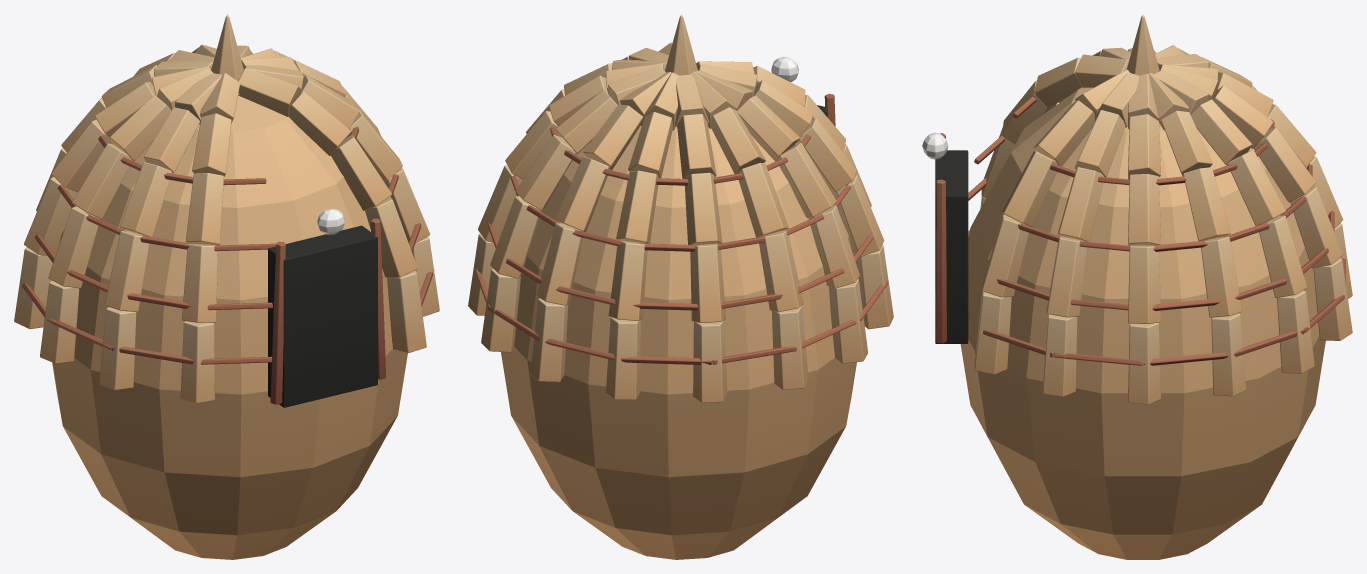
Rendered from reed_hut.glb.
3 views of the same model, side by side, from view 1: azimuth 30°, elevation 25°; view 2: azimuth 150°, elevation 25°; view 3: azimuth 270°, elevation 25° (orthographic).
Visible parts, largest first — view 1: reed_hut; view 2: reed_hut; view 3: reed_hut.
Boxes of the visible parts, x1,y1,x2,y2 form: reed_hut: [14, 14, 439, 559]; reed_hut: [468, 14, 893, 559]; reed_hut: [922, 14, 1352, 559].
Size of the model in its own units: 3.91 by 5.39 by 3.94.
1 material, 1 textured.
